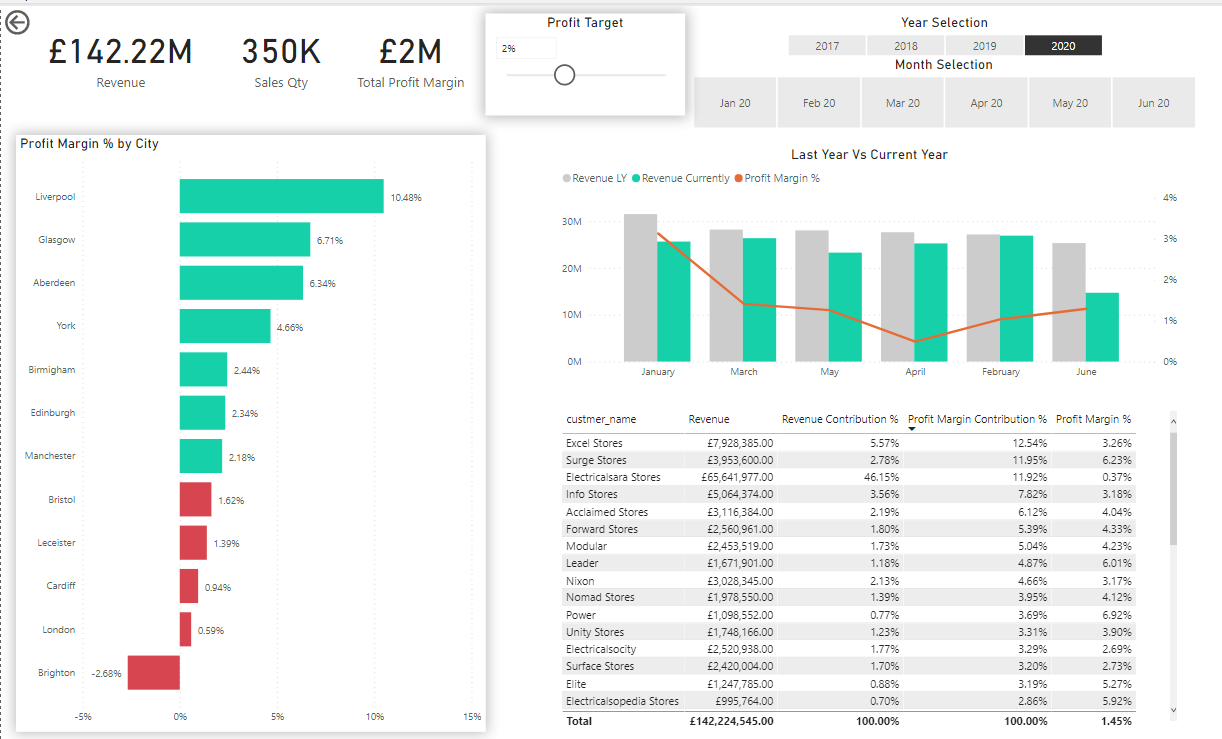

This screenshot's page, from the dashboard's own definition file:
{"tool":"powerbi","page":{"name":"Drilldown Key Insights","canvas":[1500,900],"ordinal":0},"visuals":[{"type":"card","fields":{"Values":["Base Measures.Sales Qty"]},"box":[274.6,9.5,134.4,102.2],"z":0},{"type":"card","fields":{"Values":["Base Measures.Revenue"]},"box":[18.9,9.5,255.6,102.2],"z":1000},{"type":"card","fields":{"Values":["Base Measures.Total Profit Margin"]},"box":[409,9.5,183.7,102.2],"z":2000},{"type":"slicer","title":"Month Selection","fields":{"Values":["sales date.cy_date"]},"box":[821.2,60.5,661.7,95.3],"z":4000},{"type":"slicer","title":"Year Selection","fields":{"Values":["sales date.year"]},"box":[936.7,9.2,432.6,51.3],"z":5000},{"type":"tableEx","fields":{"Values":["sales customers.custmer_name","Base Measures.Revenue","Base Measures.Revenue Contribution %","Base Measures.Profit Margin Contribution %","Base Measures.Profit Margin %"]},"box":[680,489.4,762.5,397.8],"z":8000},{"type":"slicer","title":"Profit Target","fields":{"Values":["Profit Target.Profit Target"]},"box":[592.1,9.2,243.8,124.6],"z":8001},{"type":"barChart","title":"Profit Margin % by City","fields":{"Category":["sales markets.markets_name"],"Y":["Base Measures.Profit Margin %"]},"box":[18.3,157.6,573.7,729.5],"z":8002},{"type":"actionButton","box":[0,0,100,40],"z":8003},{"type":"lineClusteredColumnComboChart","title":"Last Year Vs Current Year","fields":{"Category":["sales date.month_name"],"Y":["Base Measures.Revenue LY","Base Measures.Revenue"],"Y2":["Base Measures.Profit Margin %"]},"box":[680,170.5,762.5,295.1],"z":8004}]}

Visuals, with their boxes in screenshot pixels (x1, y1, x2, y2), scaled from the page's 1500x900 canvas onto the 1222x739 screenshot:
card - Base Measures.Sales Qty: bbox(224, 8, 333, 92)
card - Base Measures.Revenue: bbox(15, 8, 224, 92)
card - Base Measures.Total Profit Margin: bbox(333, 8, 483, 92)
"Month Selection" slicer: bbox(669, 50, 1208, 128)
"Year Selection" slicer: bbox(763, 8, 1116, 50)
tableEx - sales customers.custmer_name x Base Measures.Revenue: bbox(554, 402, 1175, 728)
"Profit Target" slicer: bbox(482, 8, 681, 110)
"Profit Margin % by City" barChart: bbox(15, 129, 482, 728)
actionButton: bbox(0, 0, 81, 33)
"Last Year Vs Current Year" lineClusteredColumnComboChart: bbox(554, 140, 1175, 382)
